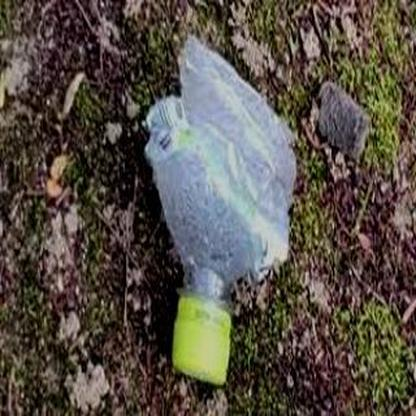plastic bottle: (144, 35, 296, 385)
